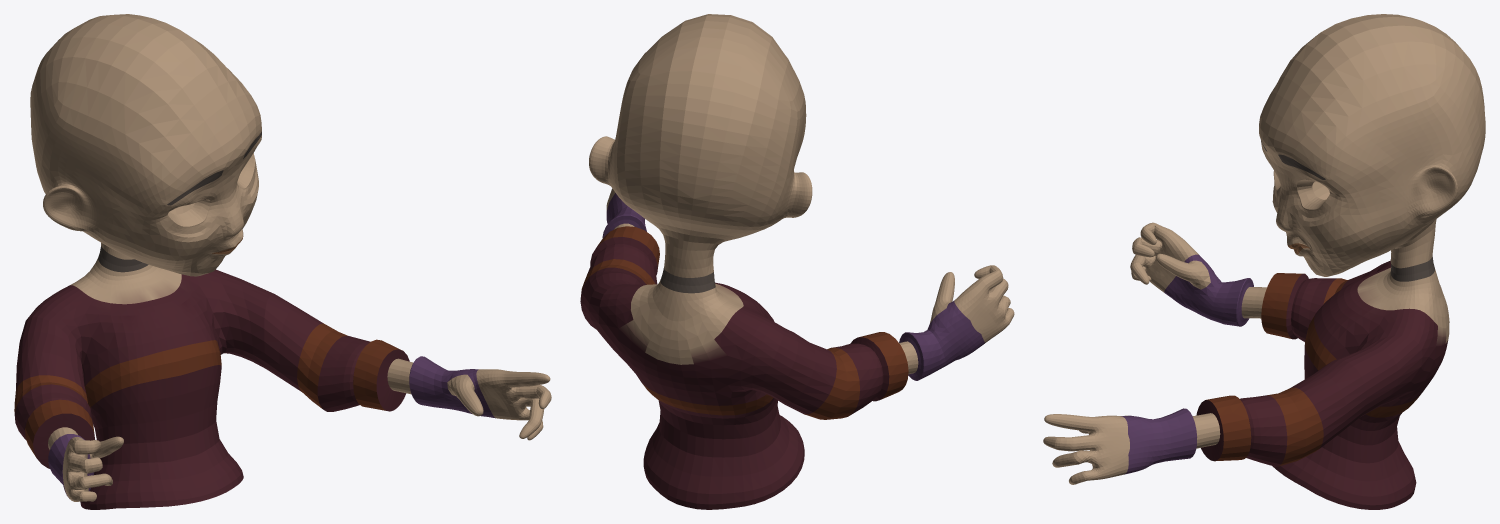
The model's file is Girl.fbx.
The picture shows the model from 3 angles, left to right: view 1: azimuth 30°, elevation 25°; view 2: azimuth 150°, elevation 25°; view 3: azimuth 270°, elevation 25°; orthographic projection. The views are drawn at different scales.
Visible parts, largest first — view 1: Motorcycle.001; view 2: Motorcycle.001; view 3: Motorcycle.001.
Part boxes in pixels (left/top/right/bottom): Motorcycle.001: left=14, top=14, right=551, bottom=509; Motorcycle.001: left=580, top=14, right=1014, bottom=509; Motorcycle.001: left=1043, top=14, right=1485, bottom=509.
Size of the model in its own units: 1.02 by 0.9239 by 1.06.
